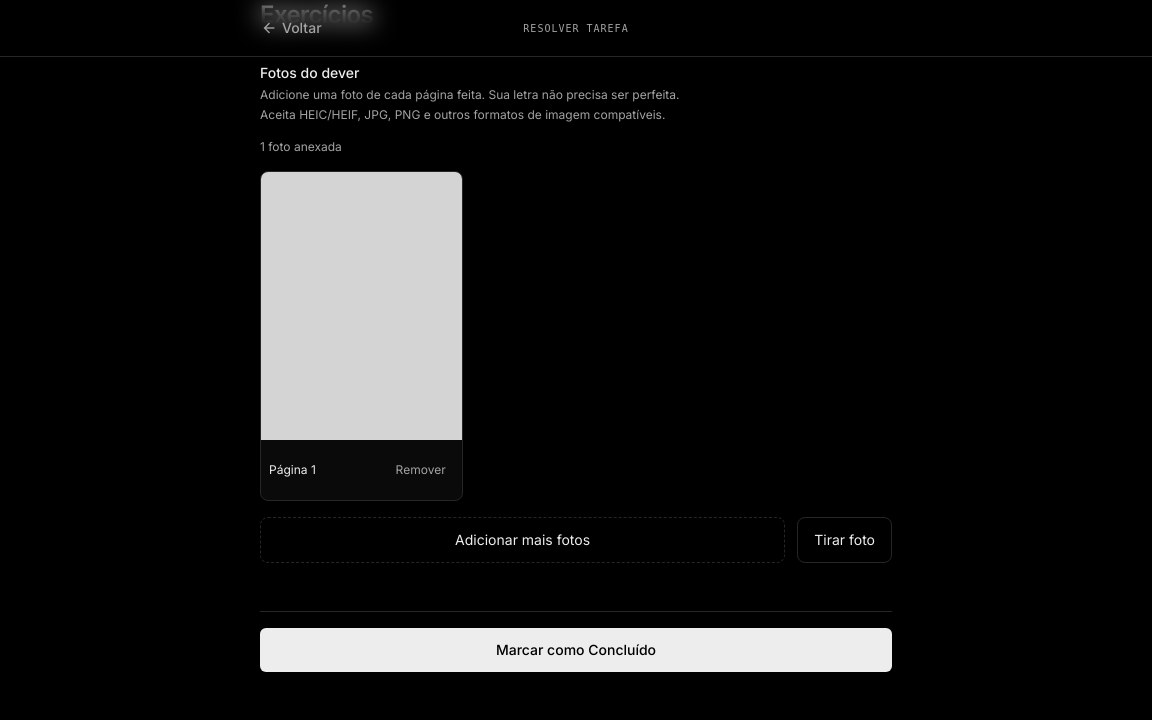
completion with multiple pages › times out and cancels a pending request when the screen unmounts
This screenshot has width=1152, height=720.
Earlier steps of the test are not shown.
Later steps or results of the test are not shown.
(page scrolled)
Click the button "Marcar como Concluído".
click(576, 650)  # box [260,628,892,672]
Wait 30000 ms
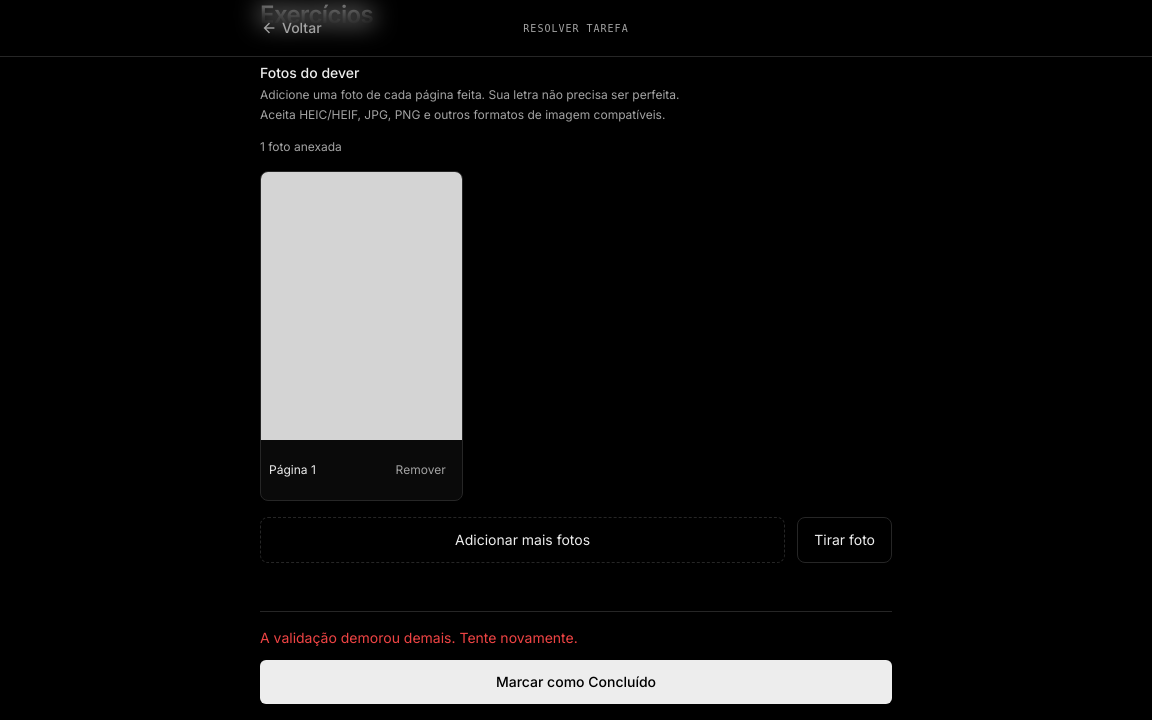
Check: the message shows "demorou demais", box [260,628,578,646]
